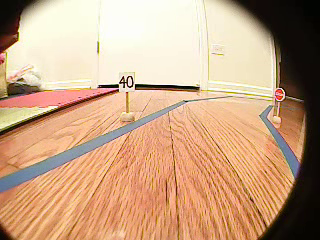Speed Limit 40: (118, 72, 136, 91)
Stop Sign: (274, 87, 285, 101)
